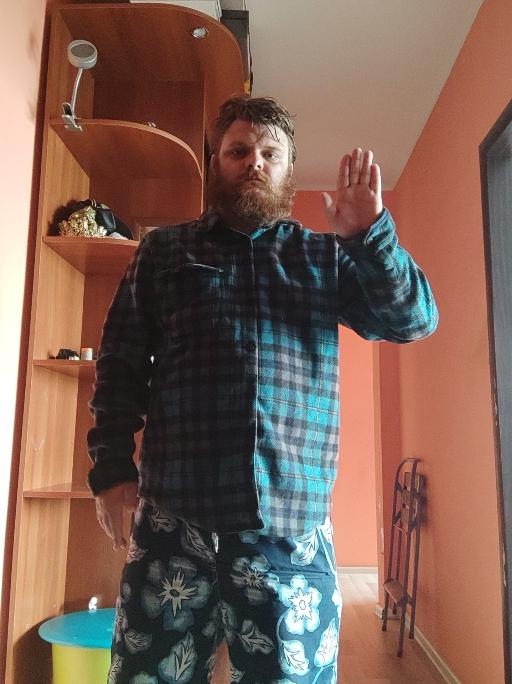no_gesture: (91, 473, 144, 552)
stop: (317, 144, 386, 245)
